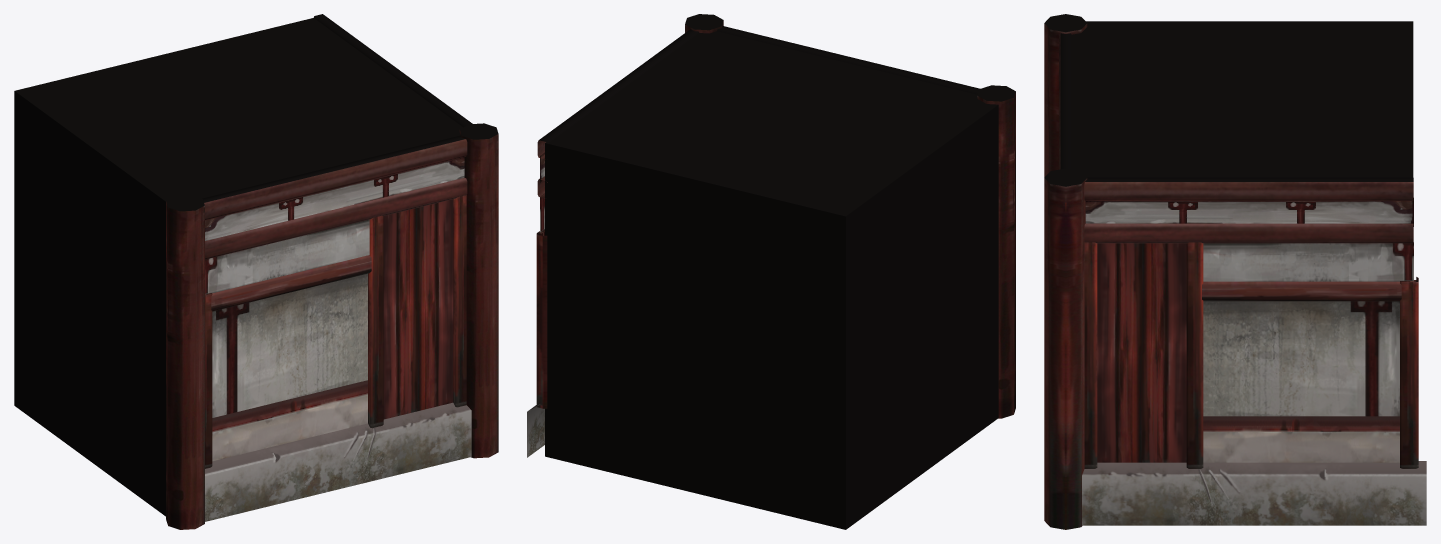
File: STR_WallSimpleCorner.FBX
3 views of the same model, side by side, from view 1: azimuth 30°, elevation 25°; view 2: azimuth 150°, elevation 25°; view 3: azimuth 270°, elevation 25° (orthographic). The views are drawn at different scales.
Visible parts, largest first — view 1: STR_WallSimpleCorner; view 2: STR_WallSimpleCorner; view 3: STR_WallSimpleCorner.
Boxes of the visible parts, x1,y1,x2,y2 form: STR_WallSimpleCorner: (14,14,498,529); STR_WallSimpleCorner: (527,14,1015,529); STR_WallSimpleCorner: (1044,14,1426,529).
Bounding box in the file's own units: 335 × 311 × 314.
1 material, 1 textured.
